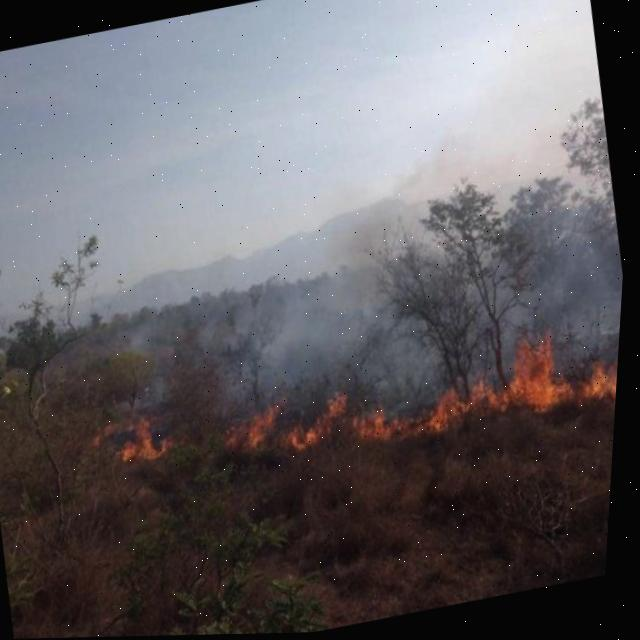fire: (128, 334, 623, 469)
smoke: (222, 0, 626, 403)
